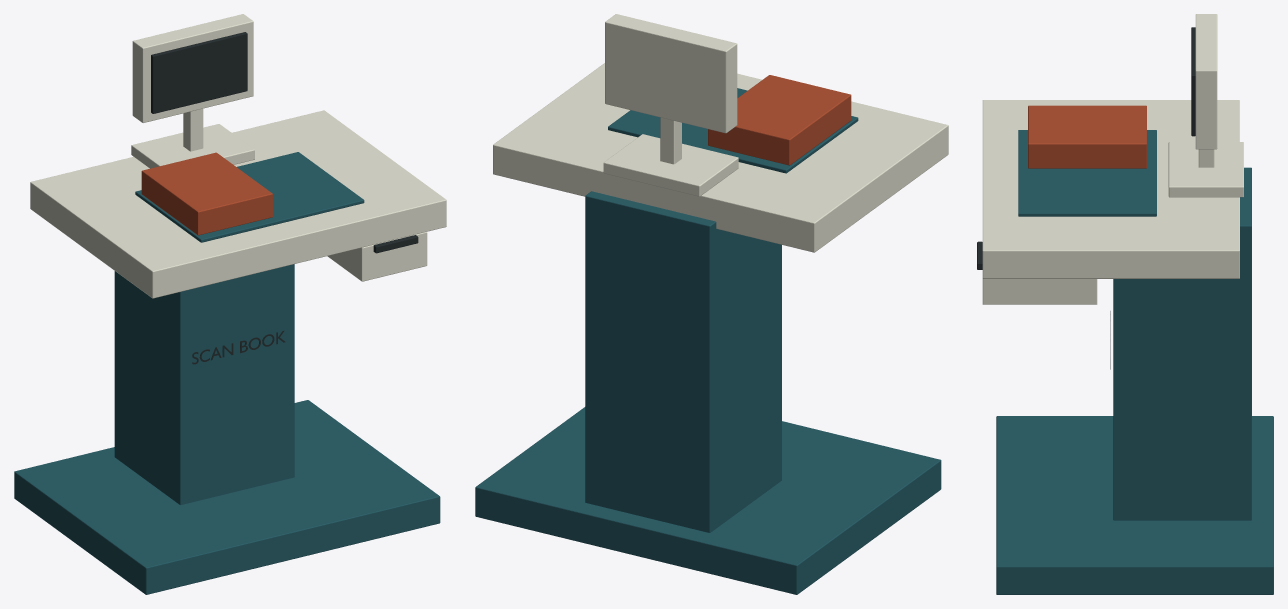
Rendered from public-library-self-checkout.glb.
3 views of the same model, side by side, from view 1: azimuth 30°, elevation 25°; view 2: azimuth 150°, elevation 25°; view 3: azimuth 270°, elevation 25° (orthographic). The views are drawn at different scales.
Visible parts, largest first — view 1: Base, Pedestal, Book_Pad, Book, Screen, RFID_Surface, Screen_Housing, Terminal_Foot, Receipt_Printer_Housing, Terminal_Stem; view 2: Pedestal, Base, Book_Pad, Screen_Housing, Book, Terminal_Foot, RFID_Surface, Terminal_Stem; view 3: Base, Pedestal, Book_Pad, Book, RFID_Surface, Terminal_Foot, Screen_Housing, Receipt_Printer_Housing, Screen.
Part boxes in pixels (x1,y1,x2,y2): Base: (14, 400, 440, 594); Pedestal: (114, 264, 294, 504); Book_Pad: (30, 110, 446, 298); Book: (141, 152, 272, 235); Screen: (151, 32, 247, 113); RFID_Surface: (135, 152, 364, 242); Screen_Housing: (132, 14, 253, 122); Terminal_Foot: (131, 124, 254, 168); Receipt_Printer_Housing: (327, 232, 427, 281); Terminal_Stem: (183, 108, 203, 151); Pedestal: (585, 191, 781, 532); Base: (475, 407, 941, 594); Book_Pad: (493, 63, 948, 252); Screen_Housing: (605, 14, 737, 133); Book: (708, 75, 851, 165); Terminal_Foot: (603, 134, 738, 196); RFID_Surface: (608, 88, 858, 173); Terminal_Stem: (660, 117, 681, 164); Base: (996, 416, 1273, 594); Pedestal: (1113, 167, 1251, 520); Book_Pad: (982, 100, 1239, 278); Book: (1028, 105, 1146, 168); RFID_Surface: (1018, 130, 1156, 216); Terminal_Foot: (1168, 142, 1243, 197); Screen_Housing: (1195, 14, 1217, 149); Receipt_Printer_Housing: (982, 279, 1097, 304); Screen: (1191, 27, 1195, 136).
Bounding box in the file's own units: 0.9 × 1.33 × 0.7485.
